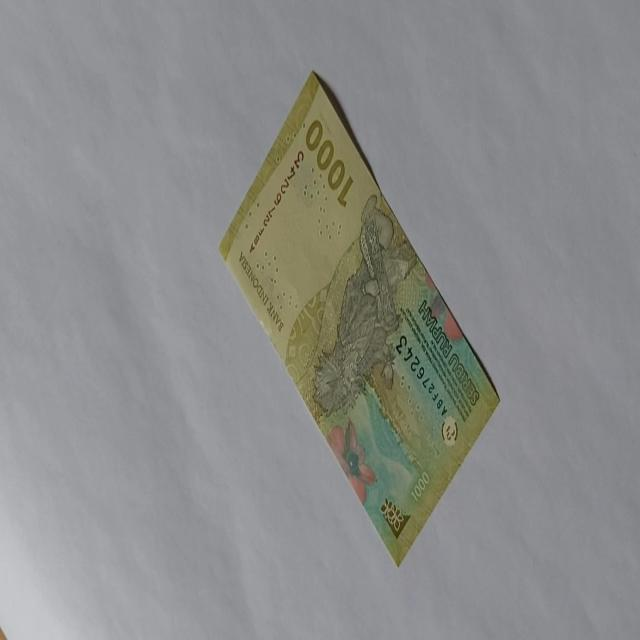seribu rupiah kertas: (218, 69, 500, 567)
